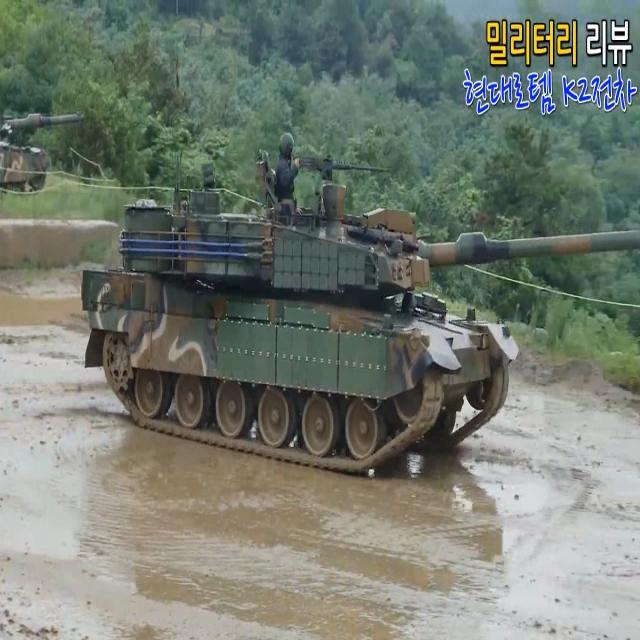korea tank: (80, 133, 640, 472)
